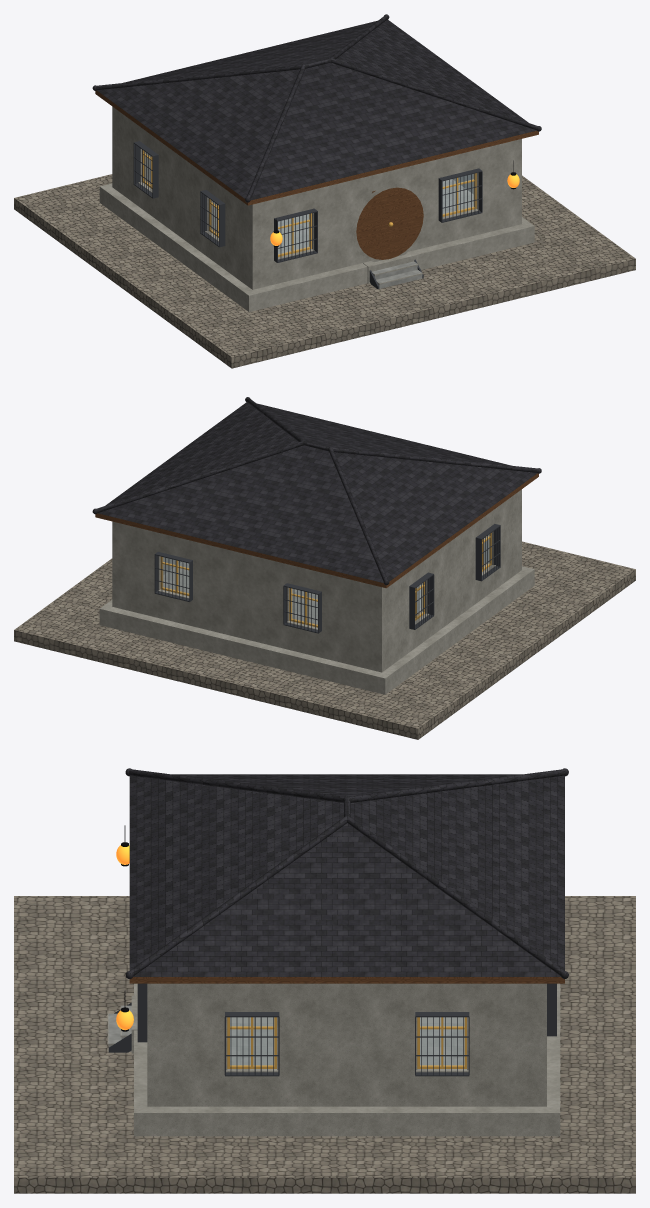
File: b_dwarf_stonehall.gltf
3 renders of one model, top to bottom at view 1: azimuth 30°, elevation 25°; view 2: azimuth 150°, elevation 25°; view 3: azimuth 270°, elevation 25°, orthographic. The views are drawn at different scales.
Parts seen in each view (by area): view 1: S_dwarf_stonehall; view 2: S_dwarf_stonehall; view 3: S_dwarf_stonehall.
Boxes of the visible parts, <box> form: S_dwarf_stonehall: <box>14,14,635,368</box>; S_dwarf_stonehall: <box>14,397,635,739</box>; S_dwarf_stonehall: <box>14,768,635,1193</box>.
Size of the model in its own units: 15 by 6.13 by 14.
Materials: 16 (9 with a texture image).
